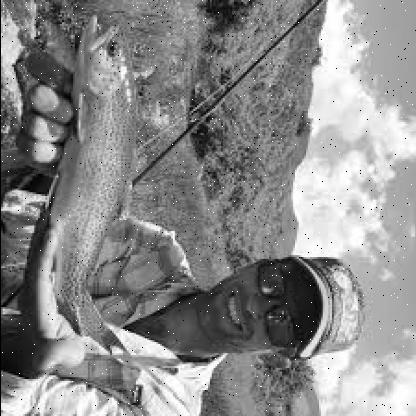fish: (43, 13, 140, 362)
